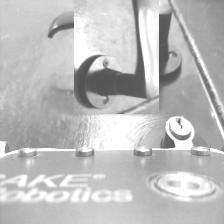Door Handle: (59, 0, 172, 99)
Lock: (138, 114, 210, 148)
